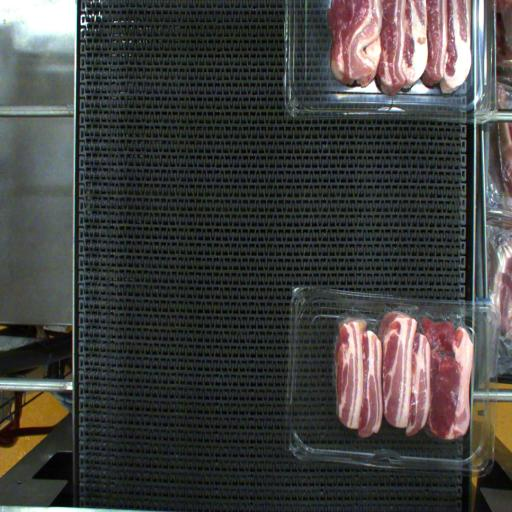unsealed: (329, 310, 479, 360)
